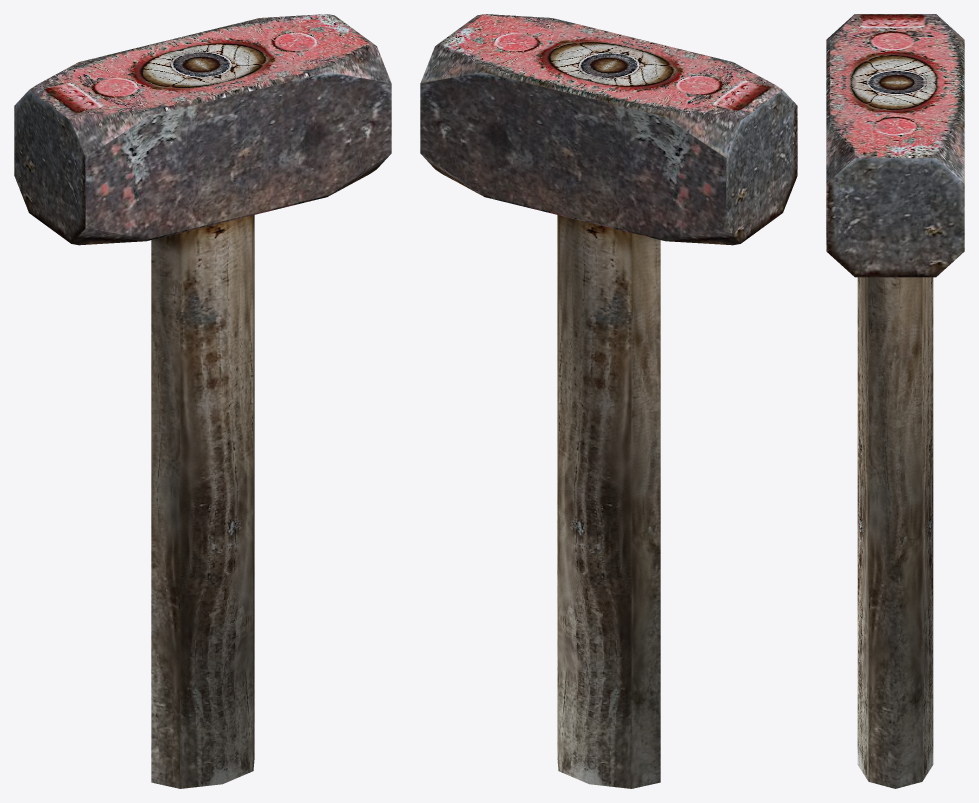
The model's file is hammer.obj.
3 renders of one model, left to right at view 1: azimuth 30°, elevation 25°; view 2: azimuth 150°, elevation 25°; view 3: azimuth 270°, elevation 25°, orthographic. The views are drawn at different scales.
Parts seen in each view (by area): view 1: hammer_Cube; view 2: hammer_Cube; view 3: hammer_Cube.
Boxes of the visible parts, bbox=[...] form: hammer_Cube: bbox=[14, 14, 391, 788]; hammer_Cube: bbox=[420, 14, 797, 788]; hammer_Cube: bbox=[826, 14, 964, 788].
Bounding box in the file's own units: 0.0404 × 0.0891 × 0.0164.
1 material, 1 textured.
